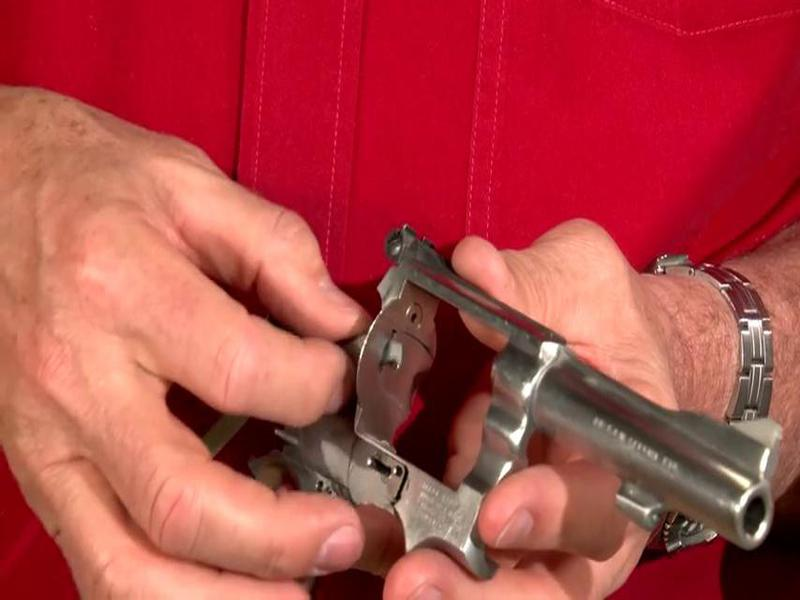Revolver: (265, 197, 770, 600)
